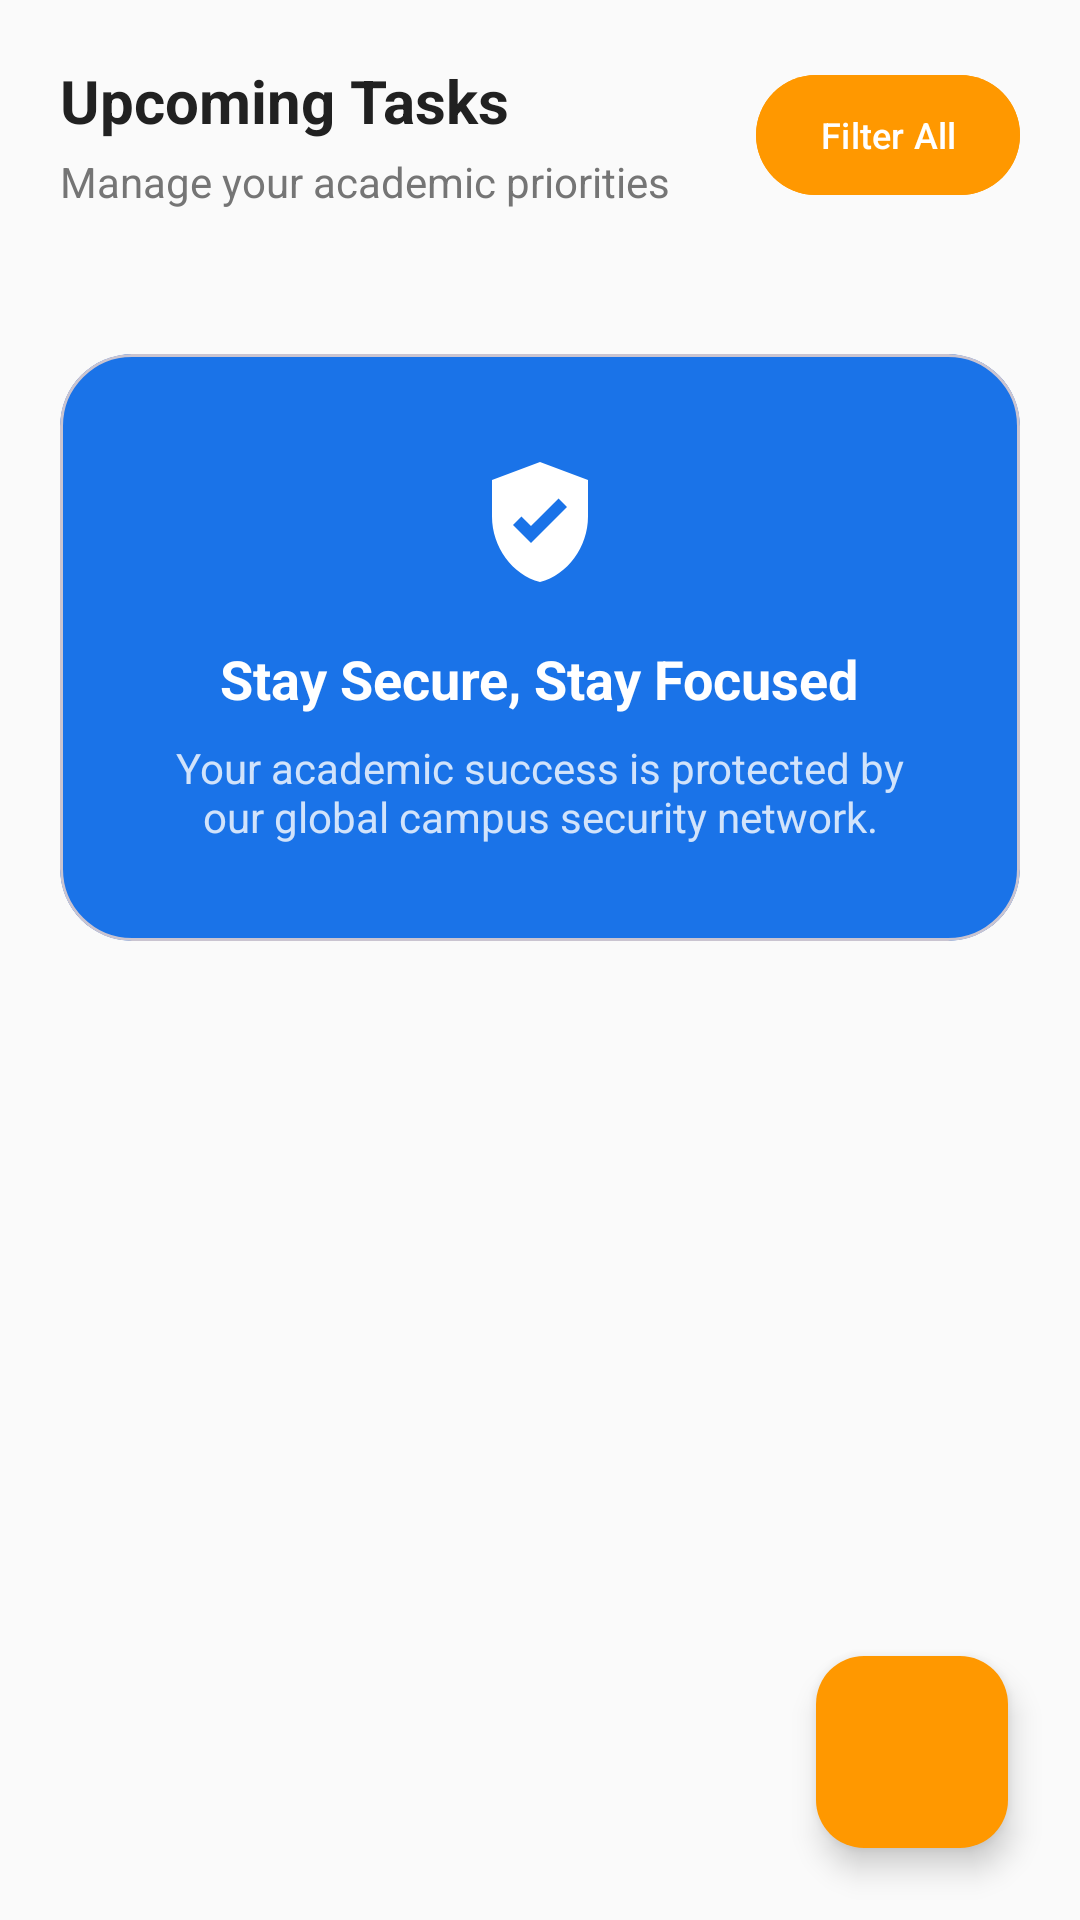

Named icons in this screenshot (1080px×1920px) and their centers, point (x, y):
shield check: point (540, 522)
